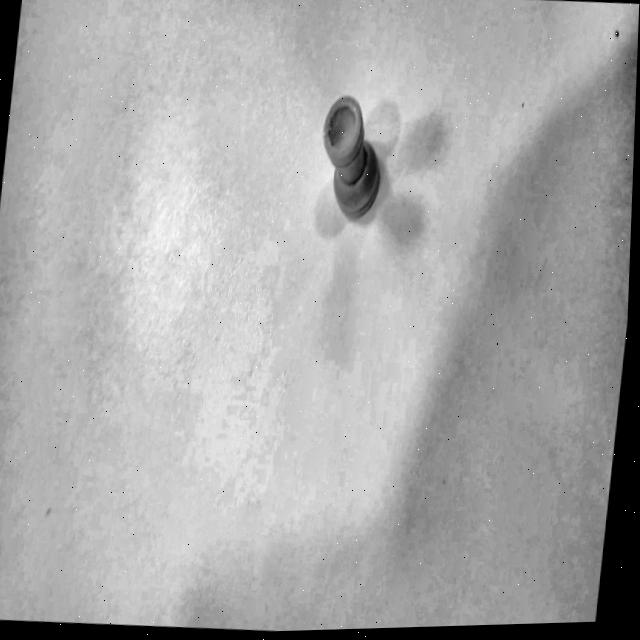white-rook: (292, 71, 427, 277)
